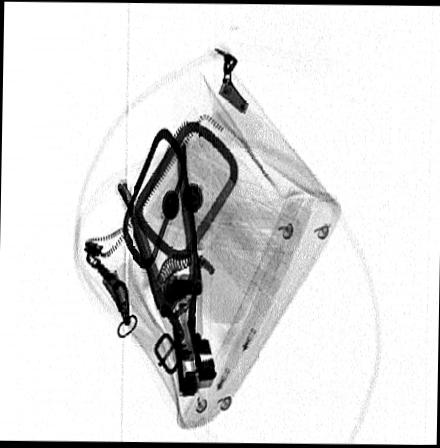Pliers: (116, 137, 217, 397)
